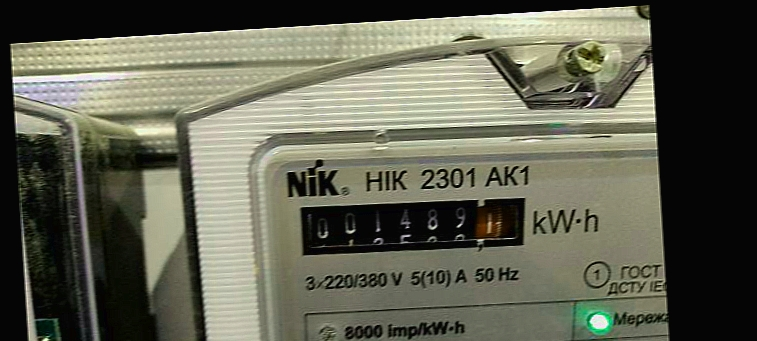0: (312, 211, 329, 237), (339, 205, 356, 231)
1: (368, 203, 384, 232), (480, 202, 494, 233)
4: (395, 202, 412, 229)
8: (421, 200, 439, 228)
9: (450, 201, 466, 226)
screen: (282, 178, 542, 269)
